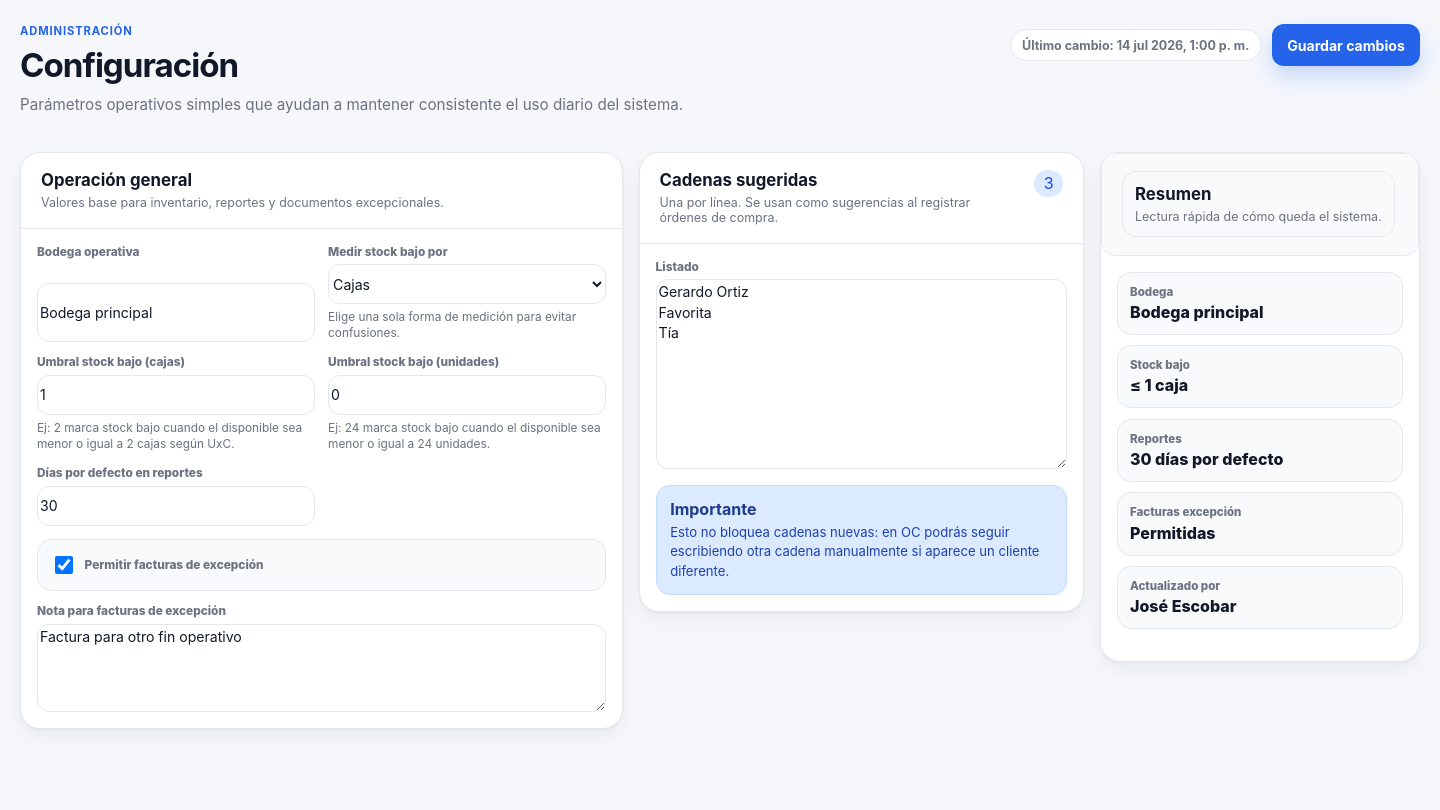
SettingsCenter › muestra y guarda configuración operativa
Expected: the heading "Configuración" is shown, [20, 45, 238, 85]
Expected: the text box showing "Gerardo Ortiz" is shown, [656, 279, 1067, 469]
Replace the text in the field showing "Bodega principal" with "Bodega central" at point(176, 312), box [37, 283, 314, 342]
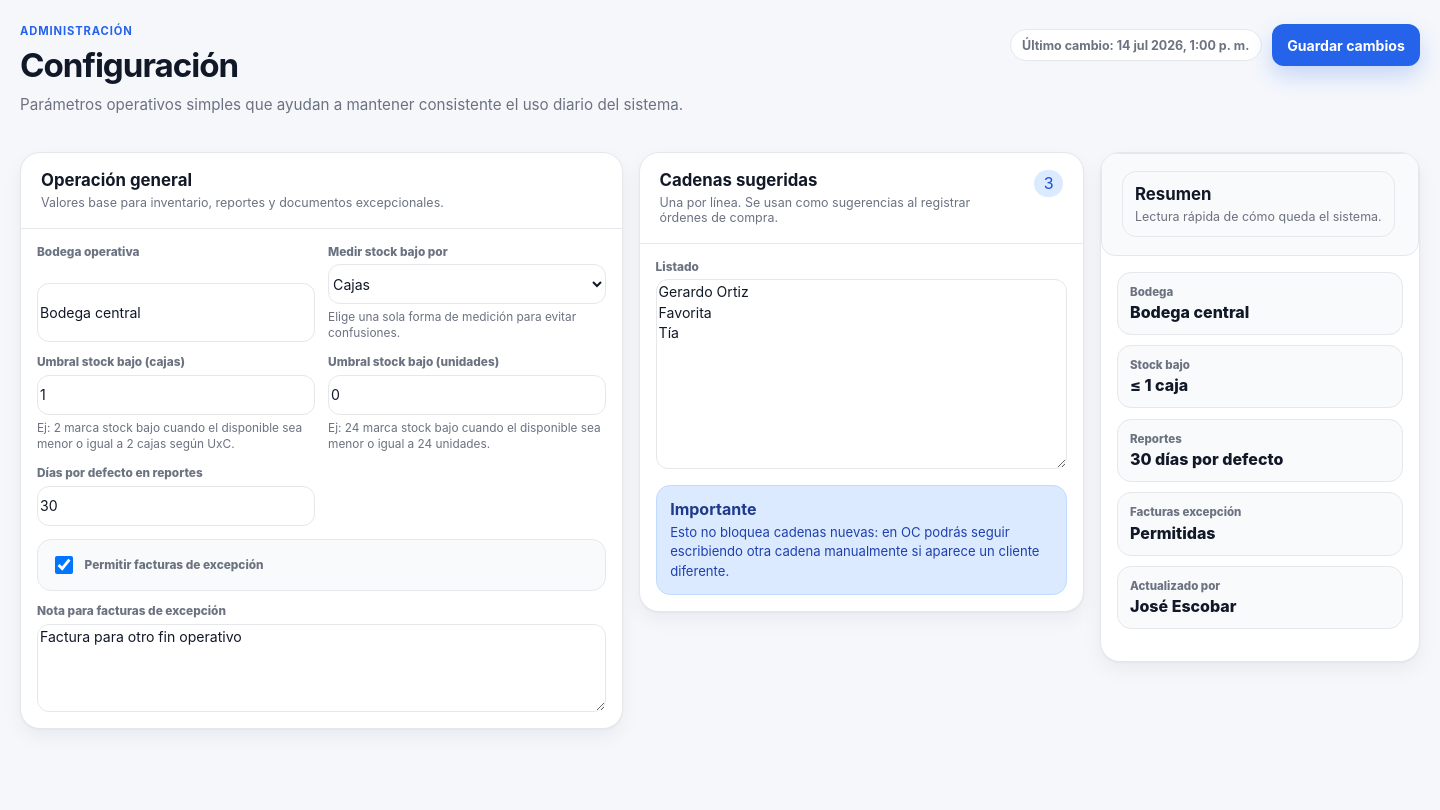
Select "Unidades" in the dropdown showing "Cajas" at point(467, 284), box [328, 264, 606, 304]
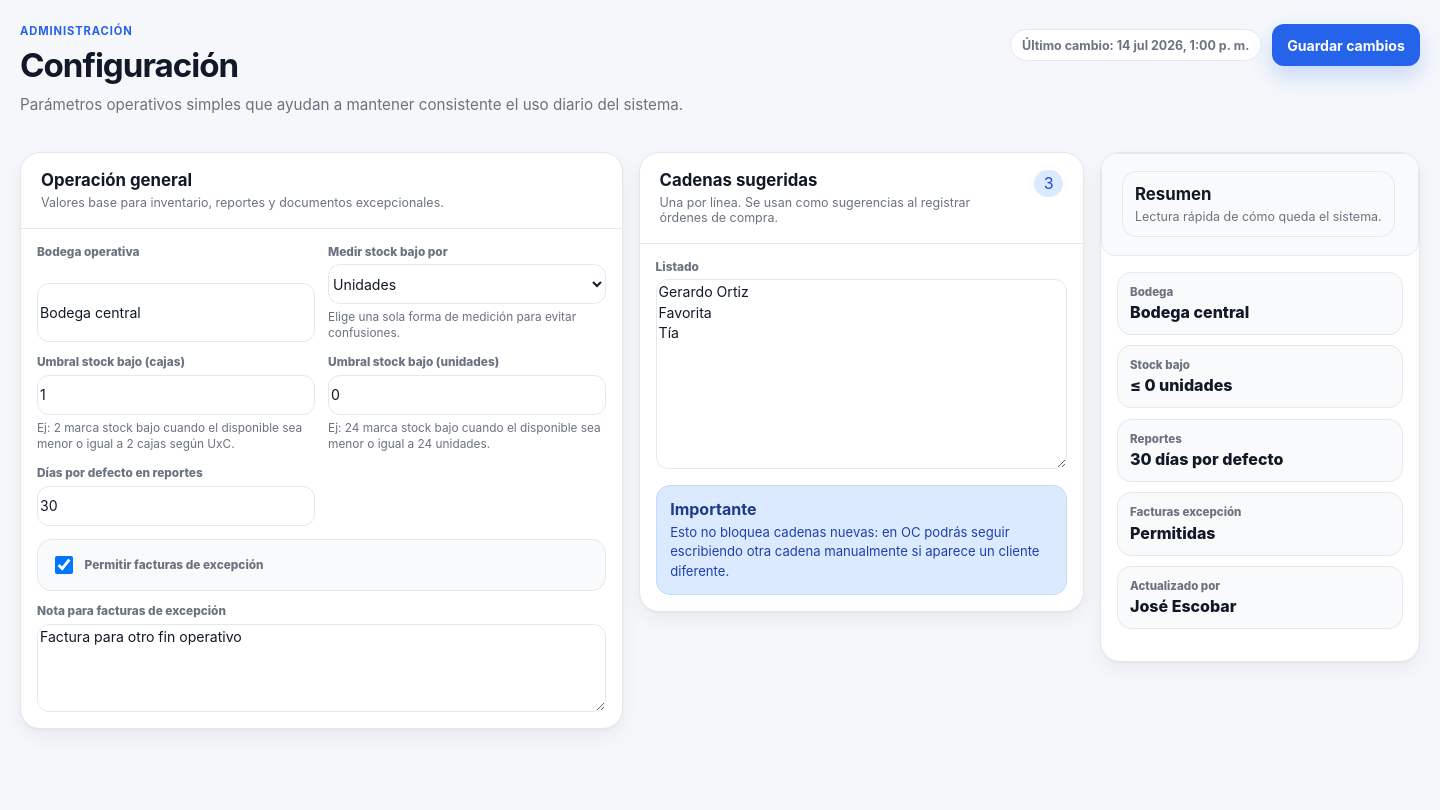
Expected: the number field showing "1" is disabled, [37, 375, 314, 415]
Replace the text in the number field showing "0" with "24" at point(467, 395), box [328, 375, 606, 415]
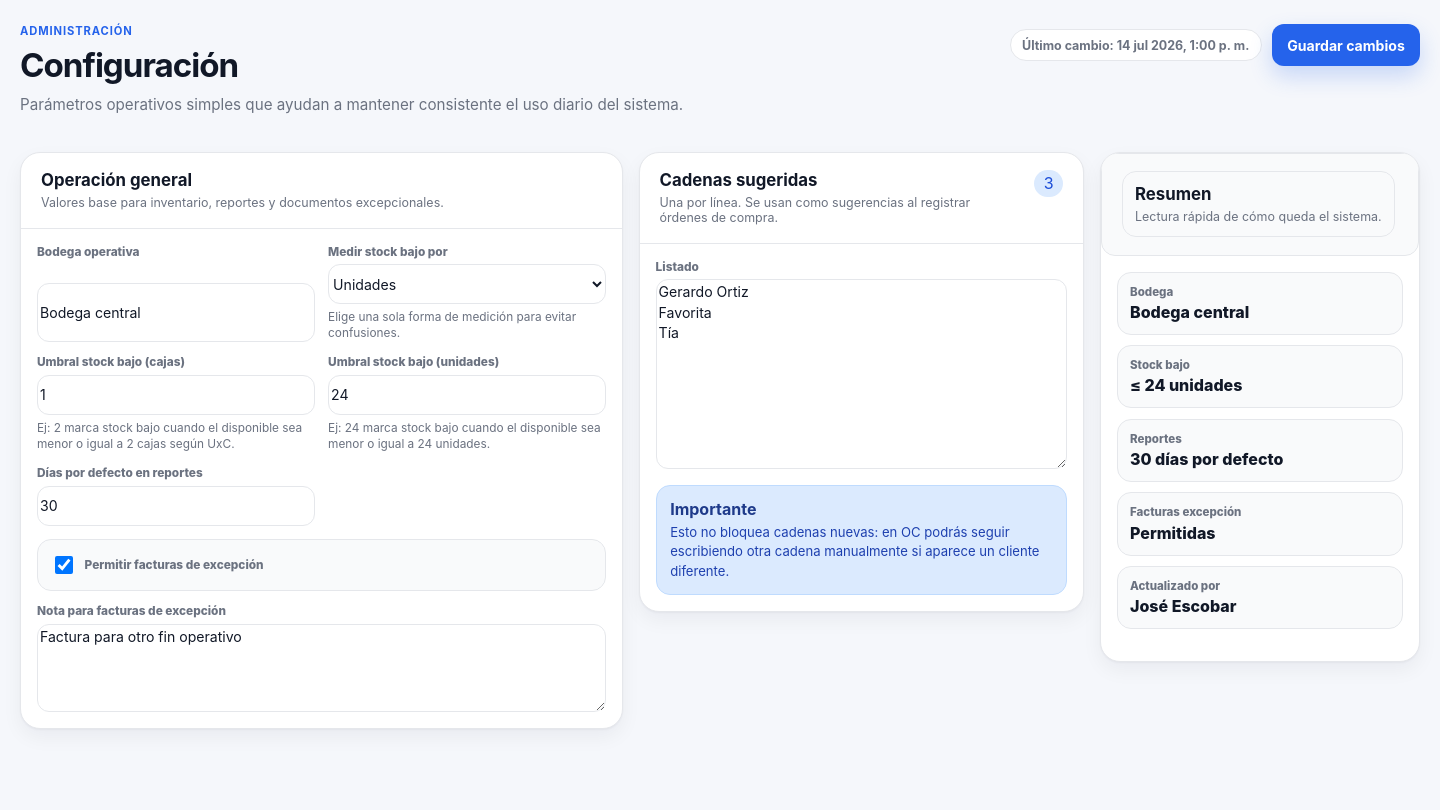
Click the button "Guardar cambios".
click(1346, 45)  # box [1272, 24, 1420, 66]
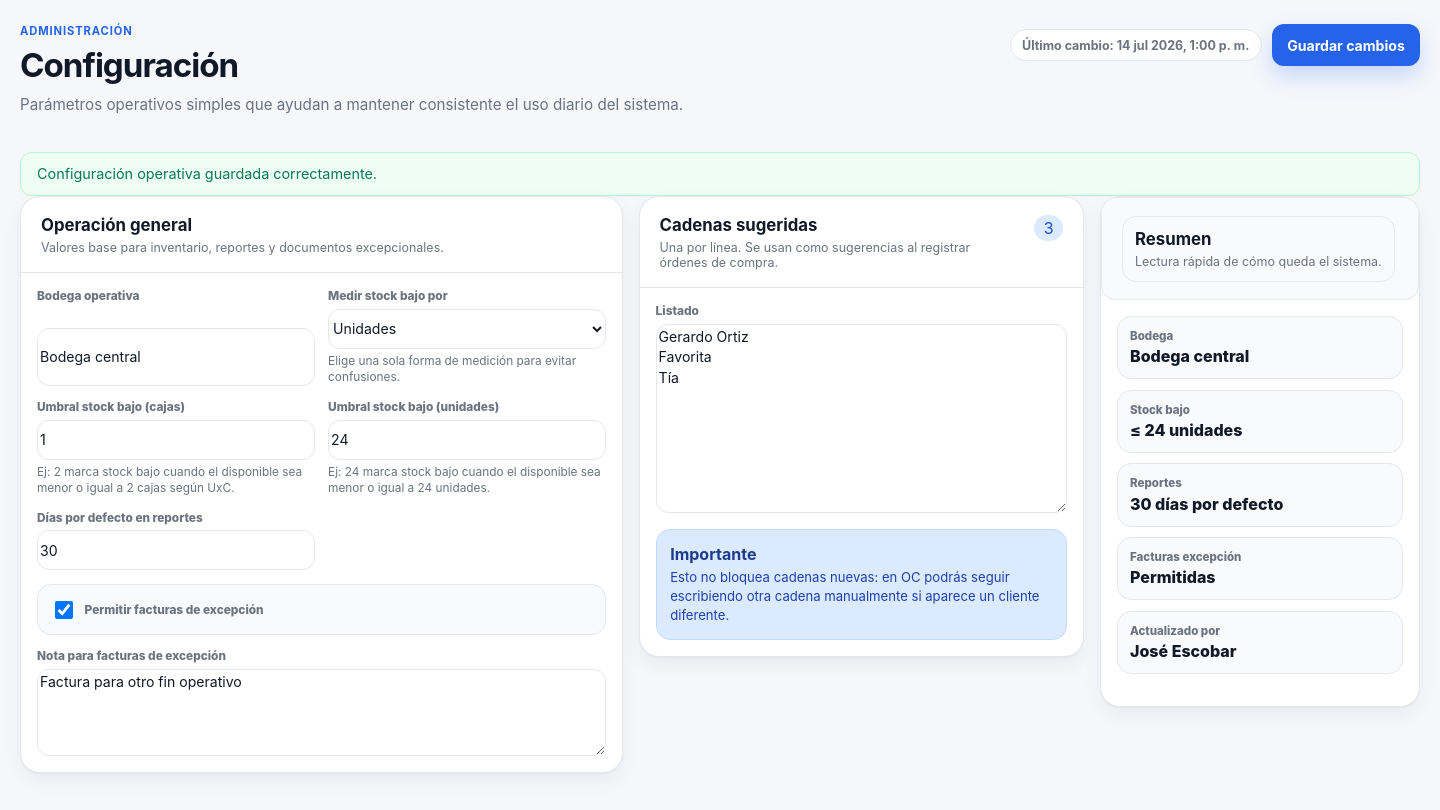
Expected: the text "Configuración operativa guardada correctamente." is shown, [20, 152, 1420, 196]
